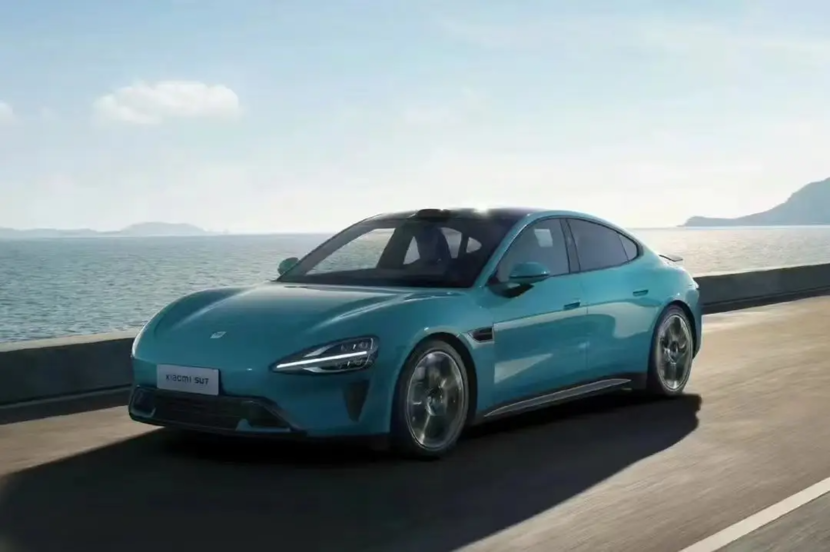su7: (124, 200, 703, 459)
